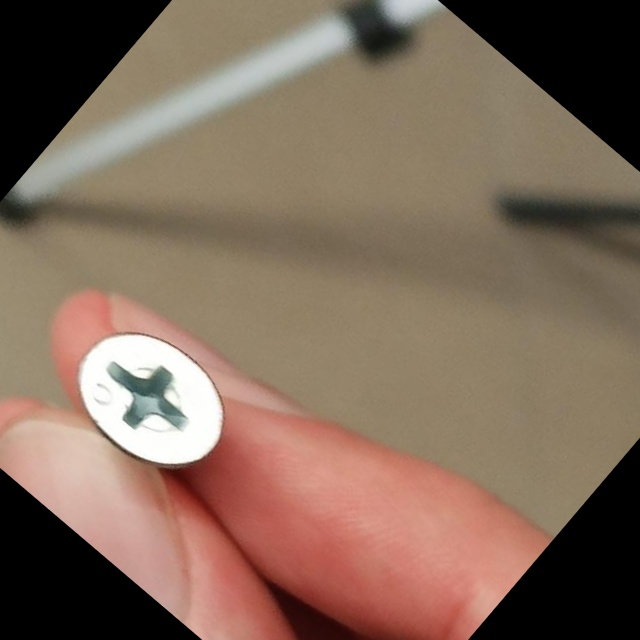phillips: (54, 304, 250, 496)
